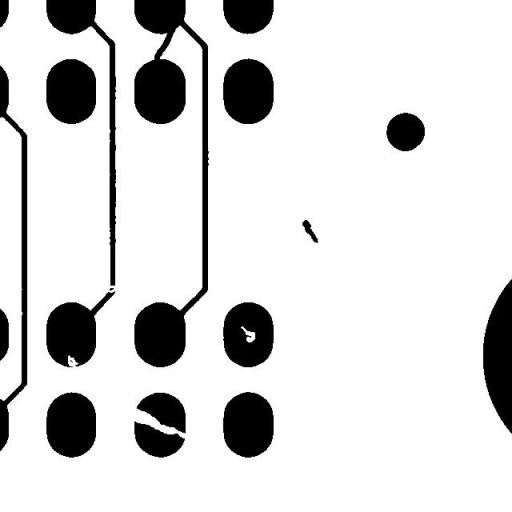copper: (294, 212, 326, 250)
mousebite: (60, 347, 86, 380)
open: (122, 400, 196, 446), (97, 274, 124, 300)
pin-hole: (233, 318, 262, 350)
short: (146, 16, 184, 70)
